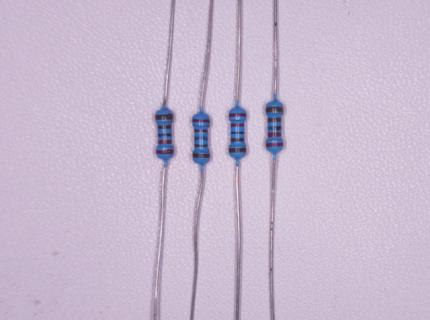Black band: (195, 136, 207, 141), (158, 133, 171, 137), (268, 126, 281, 130), (231, 132, 245, 134)
Brown band: (155, 114, 173, 120), (266, 107, 283, 112), (229, 148, 246, 153), (268, 117, 281, 122), (193, 154, 209, 158), (158, 125, 171, 129), (231, 138, 244, 142), (195, 144, 208, 147)
Red band: (268, 132, 281, 138), (156, 150, 174, 154), (193, 119, 210, 123), (267, 143, 284, 147), (230, 113, 246, 117), (158, 140, 172, 144), (231, 123, 244, 127), (194, 129, 208, 132)
